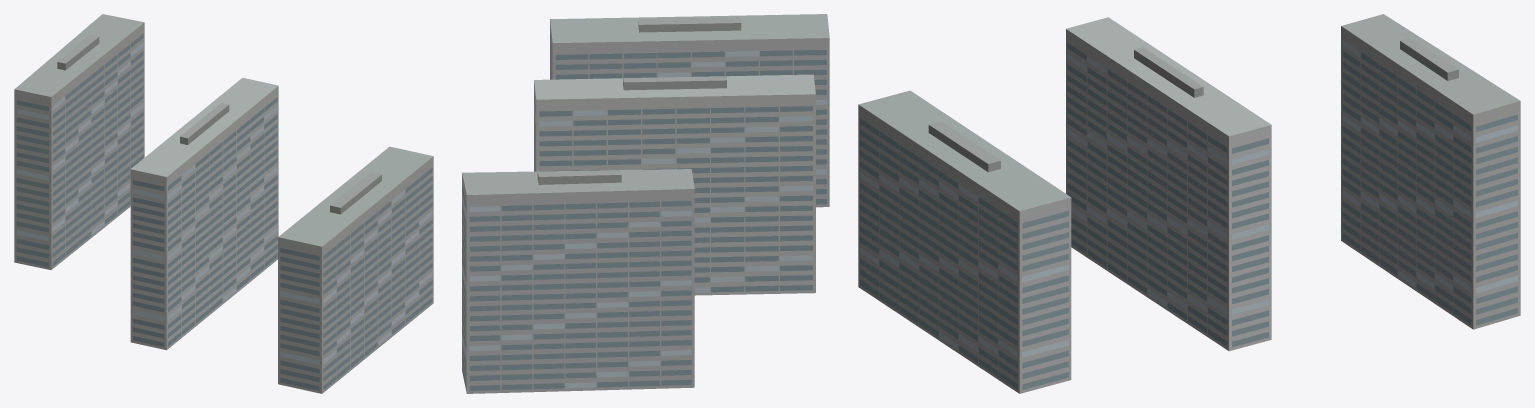
The model's file is apt-a15081604.glb.
The picture shows the model from 3 angles, left to right: view 1: azimuth 30°, elevation 25°; view 2: azimuth 150°, elevation 25°; view 3: azimuth 270°, elevation 25°; orthographic projection. The views are drawn at different scales.
Parts seen in each view (by area): view 1: apt-a15081604; view 2: apt-a15081604; view 3: apt-a15081604.
Part boxes in pixels (x1,y1,x2,y2): apt-a15081604: [14, 14, 433, 393]; apt-a15081604: [462, 14, 829, 393]; apt-a15081604: [858, 14, 1520, 393].
Size of the model in its own units: 100 by 63.4 by 170.
